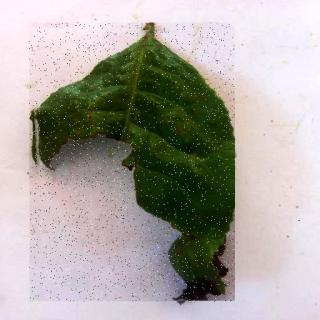Brown Blight: (30, 24, 236, 303)
